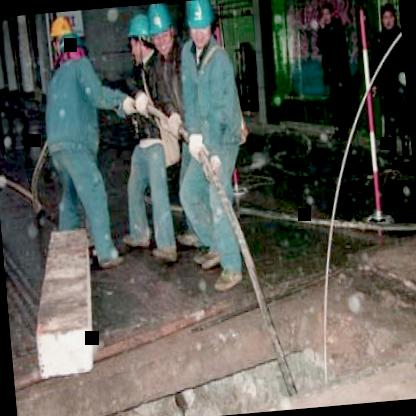helmet: (142, 2, 178, 60), (124, 10, 160, 67), (182, 0, 218, 50), (46, 14, 80, 59)
